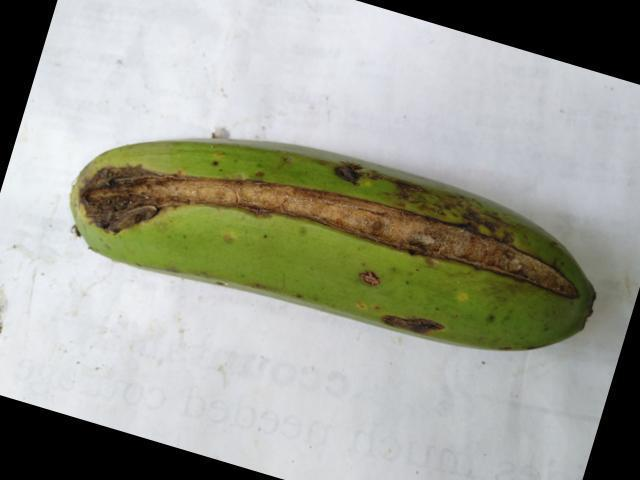rotten: (170, 158, 586, 325), (76, 146, 218, 243)
